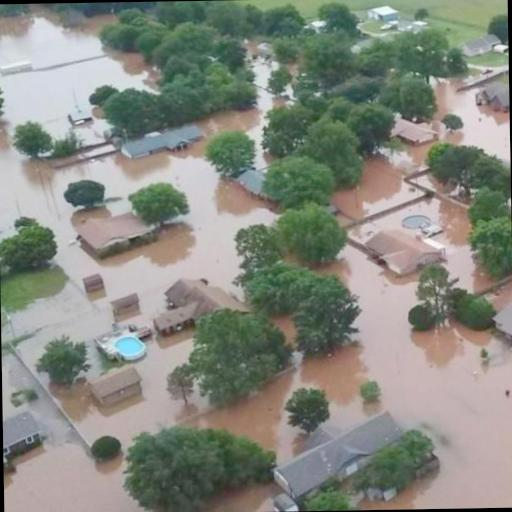flood: (342, 247, 512, 510), (0, 54, 145, 343), (47, 156, 280, 320), (196, 351, 375, 450), (75, 339, 194, 451), (377, 196, 490, 292), (4, 447, 143, 512), (122, 108, 260, 157), (434, 81, 510, 163), (336, 149, 425, 218), (54, 296, 113, 340), (200, 488, 279, 512), (20, 334, 46, 376), (2, 359, 19, 421), (347, 220, 386, 242)
house: (258, 406, 434, 508), (364, 226, 442, 276), (73, 210, 152, 258), (2, 388, 42, 474), (156, 278, 246, 315), (122, 126, 204, 158), (87, 365, 145, 406), (474, 84, 510, 114), (458, 34, 500, 56), (110, 293, 142, 315), (368, 4, 400, 24)
